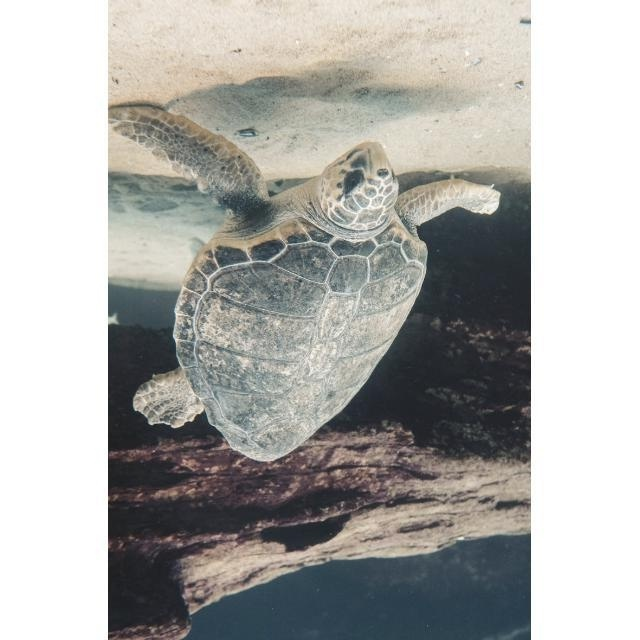turtle: (108, 105, 502, 464)
